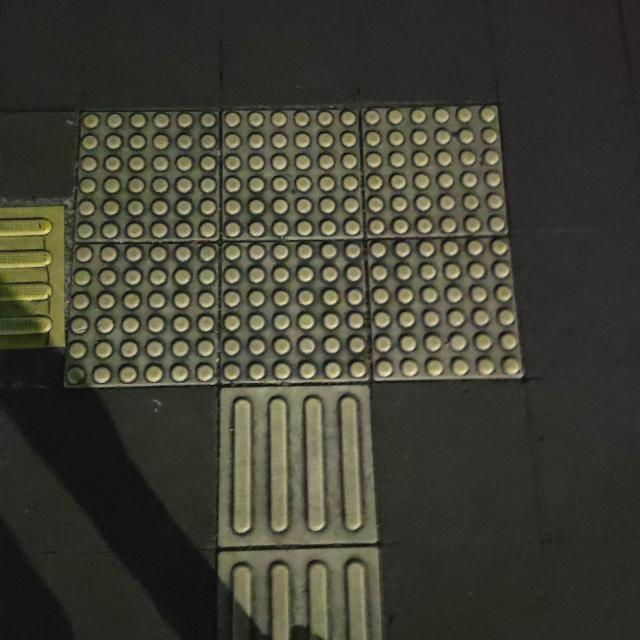kiri: (0, 103, 393, 510)
